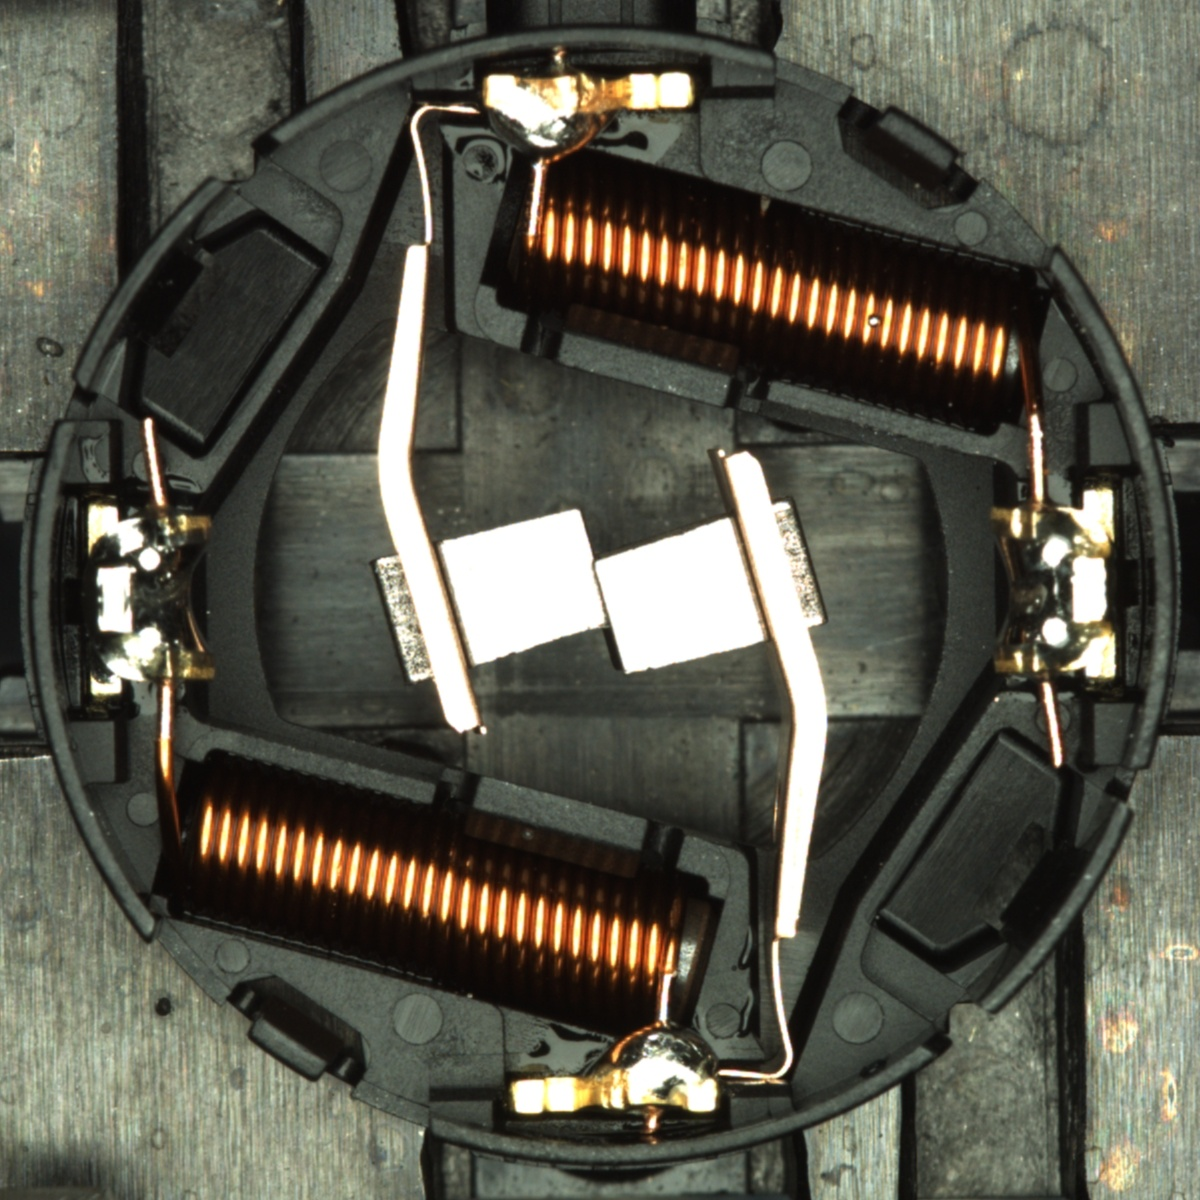1: (254, 30, 482, 255), (712, 927, 942, 1152)
2: (712, 30, 942, 255), (254, 927, 482, 1152)
3: (24, 255, 254, 479), (942, 703, 1170, 927)
4: (712, 703, 942, 927), (254, 255, 482, 479)
5: (482, 142, 712, 367), (482, 815, 712, 1040)
6: (712, 255, 942, 479), (254, 703, 482, 927)
7: (24, 703, 254, 927), (942, 255, 1170, 479)
bui_chi: (867, 314, 882, 329)
cacbon: (393, 497, 802, 685)
chau_dien: (81, 496, 220, 700), (984, 487, 1123, 687)
tay_choi: (480, 70, 700, 169), (508, 1020, 721, 1118)
thanh_de: (953, 786, 1141, 1031), (59, 164, 244, 404)
